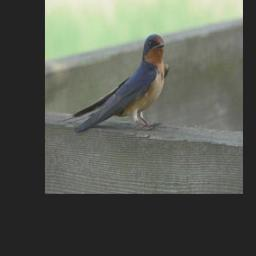Swallow: (55, 32, 170, 135)
